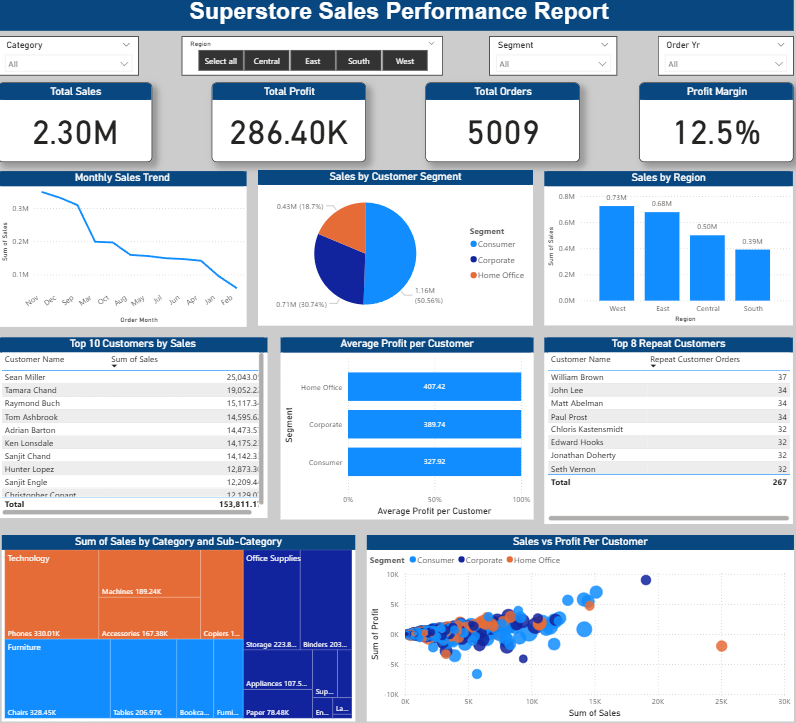

This screenshot's page, from the dashboard's own definition file:
{"tool":"powerbi","page":{"name":"Page 1","canvas":[1300,1200],"ordinal":0},"visuals":[{"type":"lineChart","title":"Monthly Sales Trend","fields":{"Y":["Orders (2).Sales"],"Category":["Orders (2).Order Month"]},"box":[0,283.3,400,250],"z":0},{"type":"treemap","fields":{"Group":["Orders (2).Category"],"Values":["Orders (2).Sales"],"Details":["Orders (2).Sub-Category"]},"box":[5.6,868.5,568.5,300],"z":1000},{"type":"clusteredColumnChart","title":"Sales by Region","fields":{"Category":["Orders (2).Region"],"Y":["Orders (2).Sales"]},"box":[879.6,283.3,400,248.1],"z":2000},{"type":"textbox","box":[0,0,1280.3,57.6],"z":4000},{"type":"card","title":"Total Sales","fields":{"Values":["Orders (2).Sales"]},"box":[0,140,248.4,127.6],"z":5000,"group":"g1"},{"type":"group","id":"g1","title":"Group 1","box":[0,140,1280,127.6],"z":5000},{"type":"card","title":"Total Orders","fields":{"Values":["Orders (2).Order ID"]},"box":[687.9,140,248.4,127.6],"z":6000,"group":"g1"},{"type":"slicer","fields":{"Values":["Orders (2).Category"]},"box":[0,67.2,226.4,63.1],"z":6000},{"type":"slicer","fields":{"Values":["Orders (2).Region"]},"box":[296.4,67.2,419.9,63.1],"z":6001},{"type":"slicer","fields":{"Values":["Orders (2).Segment"]},"box":[790.4,67.2,205.8,63.1],"z":6002},{"type":"slicer","fields":{"Values":["Orders (2).Order Yr"]},"box":[1061.8,67.2,218.2,63.1],"z":6003},{"type":"pieChart","title":"Sales by Customer Segment","fields":{"Category":["Orders (2).Segment"],"Y":["Orders (2).Sales"]},"box":[418.5,281.5,442.6,250],"z":6004},{"type":"tableEx","title":"Top 10 Customers by Sales","fields":{"Values":["Orders (2).Customer Name","Orders (2).Sales"]},"box":[0,551.9,433.3,290.7],"z":6005},{"type":"tableEx","title":"Top 8 Repeat Customers","fields":{"Values":["Orders (2).Customer Name","Orders (2).Repeat Customer Orders"]},"box":[879.6,550,400,300],"z":6007},{"type":"scatterChart","title":"Sales vs Profit Per Customer","fields":{"X":["Orders (2).Sales"],"Y":["Orders (2).Profit"],"Size":["Orders (2).Quantity"],"Category":["Orders (2).Customer Name"],"Series":["Orders (2).Segment"]},"box":[592.6,868.5,687,300],"z":6008},{"type":"hundredPercentStackedBarChart","title":"Average Profit per Customer","fields":{"Y":["Orders (2).Average Profit per Customer"],"Category":["Orders (2).Segment"]},"box":[453.7,550,407.4,292.6],"z":6009},{"type":"card","title":"Total Profit","fields":{"Values":["Orders (2).Total Profit"]},"box":[344,140,248.4,127.6],"z":7000,"group":"g1"},{"type":"card","title":"Profit Margin","fields":{"Values":["Orders (2).Profit Margin"]},"box":[1031.6,140,248.4,127.6],"z":8000,"group":"g1"}]}

Visuals, with their boxes in screenshot pixels (x1, y1, x2, y2), scaled from the page's 1300x1200 canvas onto the 796x723 screenshot:
"Monthly Sales Trend" lineChart: select_region(0, 171, 245, 321)
treemap - Orders (2).Category x Orders (2).Sales: select_region(3, 523, 352, 704)
"Sales by Region" clusteredColumnChart: select_region(539, 171, 784, 320)
textbox: select_region(0, 0, 784, 35)
"Total Sales" card: select_region(0, 84, 152, 161)
"Group 1" group: select_region(0, 84, 784, 161)
"Total Orders" card: select_region(421, 84, 573, 161)
slicer - Orders (2).Category: select_region(0, 40, 139, 79)
slicer - Orders (2).Region: select_region(181, 40, 439, 79)
slicer - Orders (2).Segment: select_region(484, 40, 610, 79)
slicer - Orders (2).Order Yr: select_region(650, 40, 784, 79)
"Sales by Customer Segment" pieChart: select_region(256, 170, 527, 320)
"Top 10 Customers by Sales" tableEx: select_region(0, 333, 265, 508)
"Top 8 Repeat Customers" tableEx: select_region(539, 331, 784, 512)
"Sales vs Profit Per Customer" scatterChart: select_region(363, 523, 784, 704)
"Average Profit per Customer" hundredPercentStackedBarChart: select_region(278, 331, 527, 508)
"Total Profit" card: select_region(211, 84, 363, 161)
"Profit Margin" card: select_region(632, 84, 784, 161)
